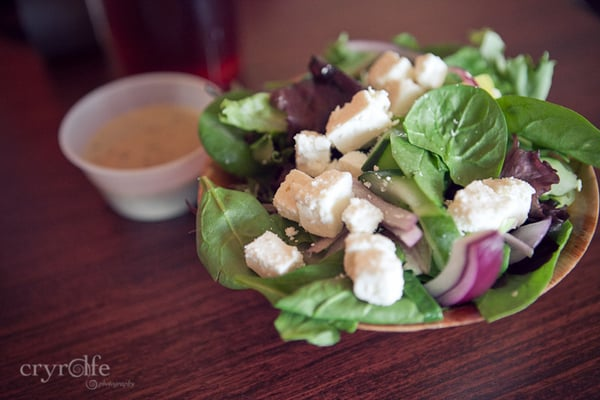sushi: (57, 69, 224, 222)
